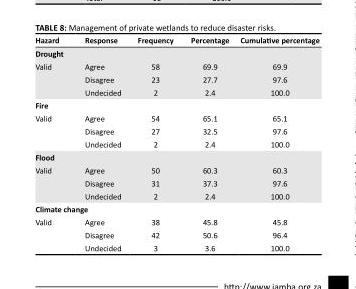table: (34, 34, 318, 252)
table column: (233, 34, 318, 252), (71, 34, 128, 252), (128, 34, 181, 252), (181, 34, 233, 252), (34, 34, 71, 252)
table column header: (34, 34, 318, 46)
table projected row header: (34, 46, 318, 60), (34, 98, 318, 112), (34, 201, 318, 215), (34, 150, 318, 163)
table row: (34, 46, 318, 60), (34, 98, 318, 112), (34, 201, 318, 215), (34, 60, 318, 73), (34, 73, 318, 86), (34, 124, 318, 137), (34, 137, 318, 150), (34, 150, 318, 163), (34, 163, 318, 176), (34, 176, 318, 189), (34, 215, 318, 228), (34, 228, 318, 241), (34, 34, 318, 46), (34, 86, 318, 98), (34, 112, 318, 124), (34, 189, 318, 201), (34, 241, 318, 252)
table spanning cell: (34, 60, 71, 98), (34, 112, 71, 150), (34, 163, 71, 201), (34, 215, 71, 252)
